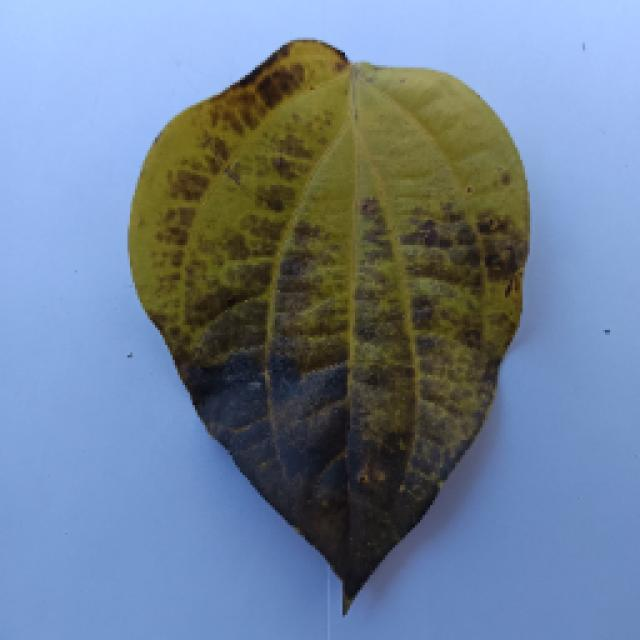slow-decline: (98, 55, 578, 623)
